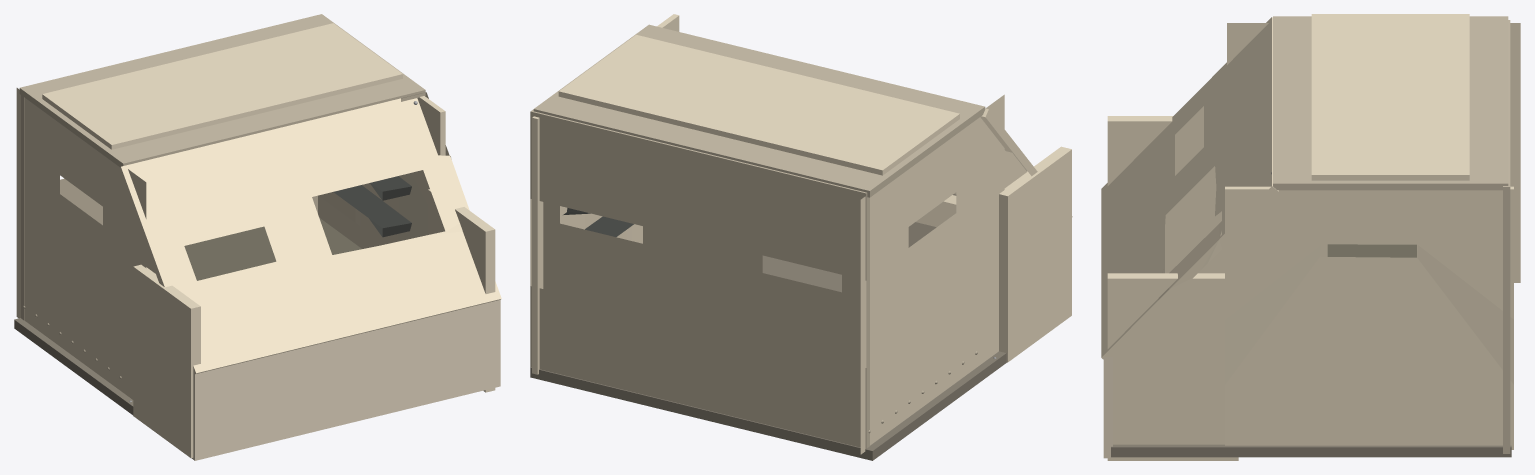
The model's file is WholeTankInteriorProto.glb.
3 renders of one model, left to right at view 1: azimuth 30°, elevation 25°; view 2: azimuth 150°, elevation 25°; view 3: azimuth 270°, elevation 25°, orthographic. The views are drawn at different scales.
Parts seen in each view (by area): view 1: Cube, Cube.002, Cube.007, Cube.003, Cube.012, Cube.011, Cube.008, Cube.006, Cube.010, Cube.009, Cube.004, Cube.005 (+1 smaller); view 2: Cube.005, Cube.007, Cube.003, Cube.012, Cube.011, Cube.004, Cube.008, Cube.001, Cube, Cube.009; view 3: Cube.008, Cube.003, Cube, Cube.010, Cube.012, Cube.004, Cube.011, Cube.001, Cube.007, Cube.005, Cube.006, Cube.002.
Boxes of the visible parts, x1,y1,x2,y2 form: Cube: (118,92,501,374); Cube.002: (191,300,500,460); Cube.007: (16,88,146,399); Cube.003: (42,23,402,149); Cube.012: (19,14,425,166); Cube.011: (133,264,200,458); Cube.008: (318,96,445,248); Cube.006: (184,218,361,280); Cube.010: (428,189,495,392); Cube.009: (333,176,411,237); Cube.004: (14,318,133,415); Cube.005: (21,95,317,320); Cube.005: (530,109,869,448); Cube.007: (860,94,1004,454); Cube.003: (558,34,959,175); Cube.012: (533,24,985,197); Cube.011: (999,146,1071,362); Cube.004: (530,255,1006,460); Cube.008: (532,14,679,374); Cube.001: (916,150,1026,227); Cube: (954,108,1072,217); Cube.009: (563,208,633,236); Cube.008: (1225,186,1513,449); Cube.003: (1311,14,1469,180); Cube: (1101,17,1278,359); Cube.010: (1107,273,1238,460); Cube.012: (1273,16,1508,190); Cube.004: (1111,444,1511,457); Cube.011: (1107,116,1224,273); Cube.001: (1165,102,1216,266); Cube.007: (1227,23,1520,282); Cube.005: (1503,20,1510,453); Cube.006: (1327,244,1416,257); Cube.002: (1103,357,1112,458).
Bounding box in the file's own units: 7.29 × 5.65 × 7.55.
